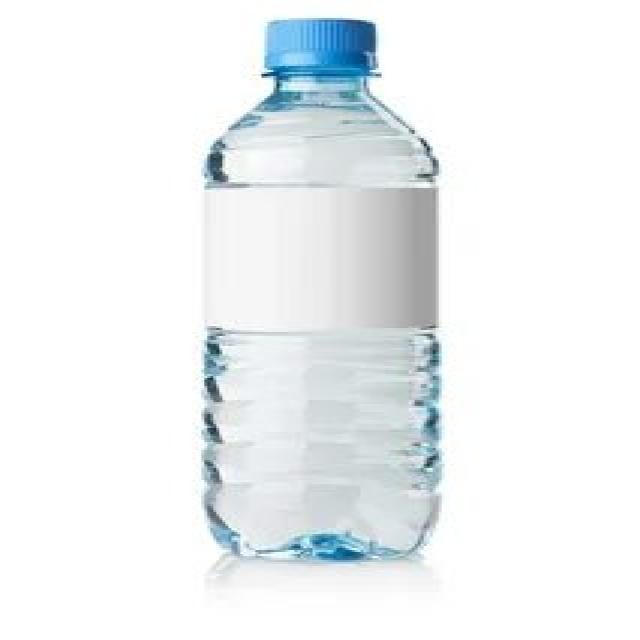blue: (205, 69, 438, 558)
